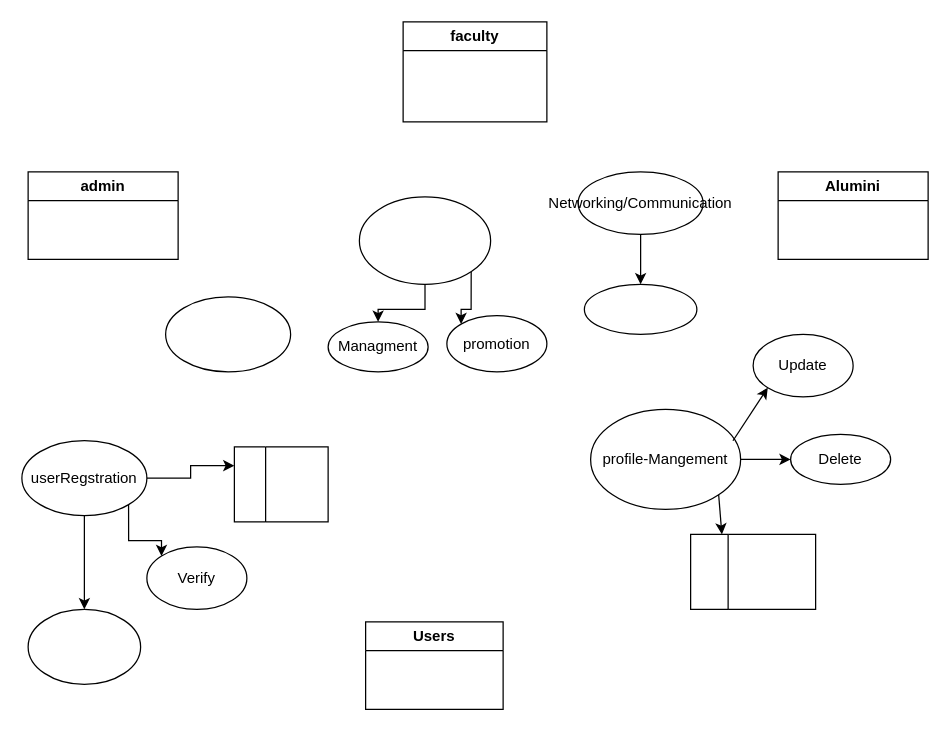
Some shapes in this 950 by 731 pixel diagram are drawn without their labels. The centre of each missing label's shape, as x and y in pixels:
admin-Management: the point at 227,334
Authorization: the point at 84,646
Database: the point at 752,571
events: the point at 424,240
Messaging: the point at 640,308
User-Database: the point at 280,484
